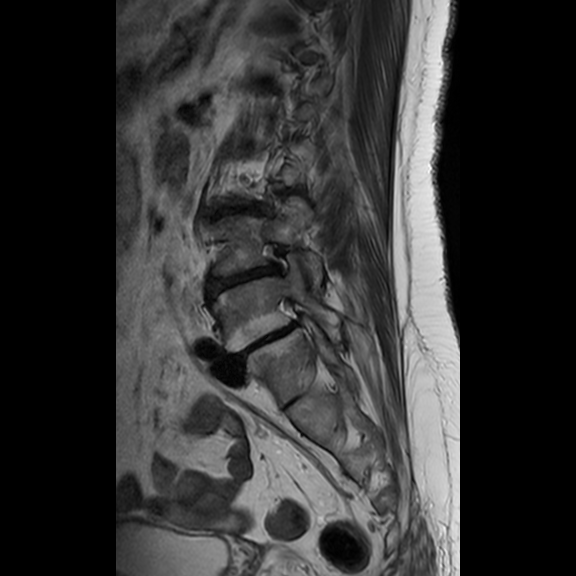LFS2: (250, 234, 302, 285)
